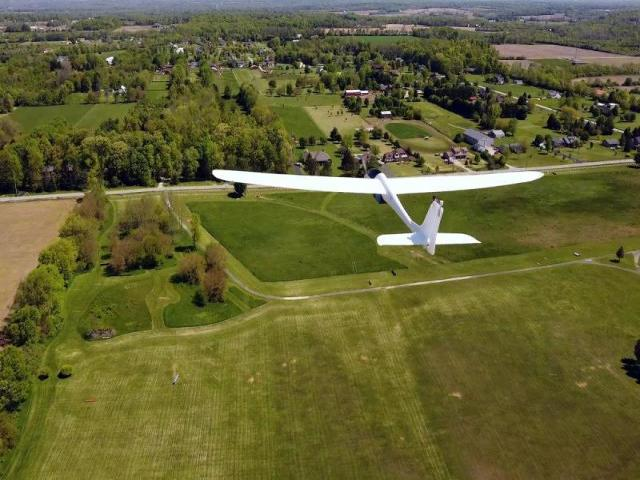hedef: (212, 146, 554, 266)
